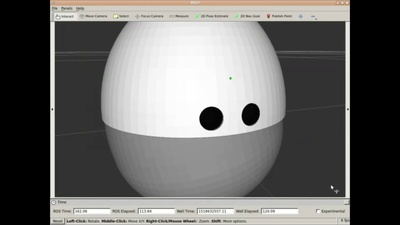mira_robot: (100, 22, 286, 196)
